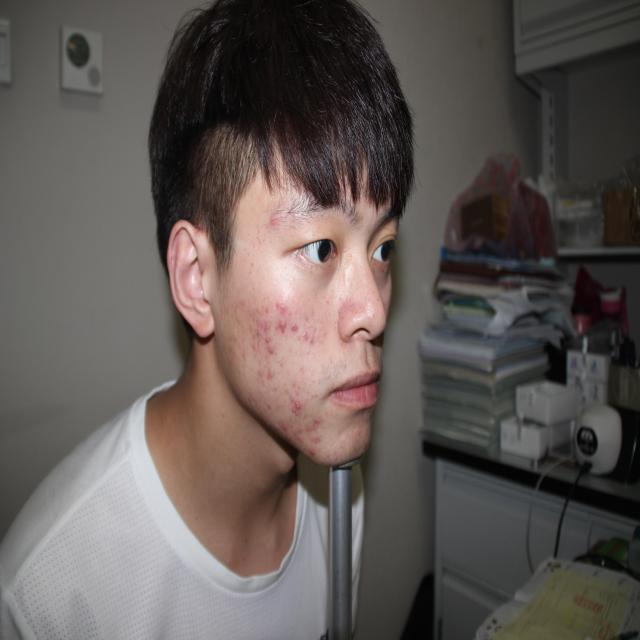acne: (268, 203, 292, 236), (274, 289, 291, 309), (299, 322, 311, 350), (245, 314, 261, 335), (302, 425, 318, 446), (275, 317, 291, 337), (309, 413, 327, 429), (310, 325, 321, 350), (292, 397, 306, 415), (259, 306, 272, 324), (267, 335, 279, 353), (283, 430, 295, 448), (284, 385, 298, 400), (266, 361, 279, 377), (260, 320, 272, 335), (248, 335, 259, 351), (310, 447, 321, 463), (280, 418, 291, 434), (265, 329, 275, 345), (289, 424, 301, 436), (290, 319, 297, 337)
